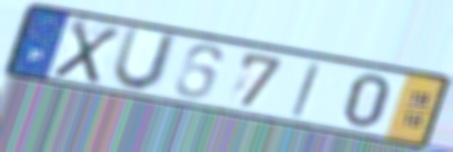0: (341, 72, 396, 129)
6: (171, 42, 226, 101)
7: (237, 51, 283, 108)
I: (288, 60, 325, 120)
U: (108, 24, 183, 95)
X: (49, 16, 124, 87)
